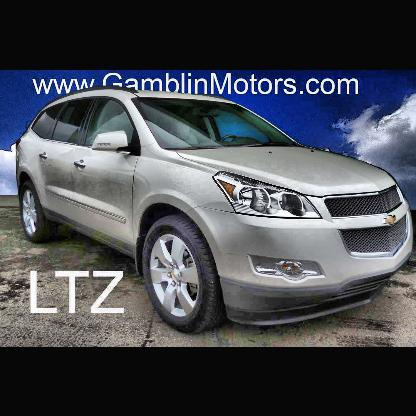Chevrolet Traverse SUV 2012: (14, 83, 416, 338)
